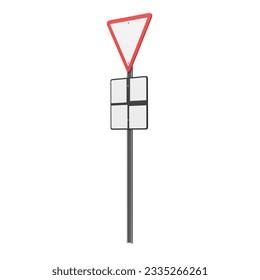Give Way: (98, 4, 159, 101)
